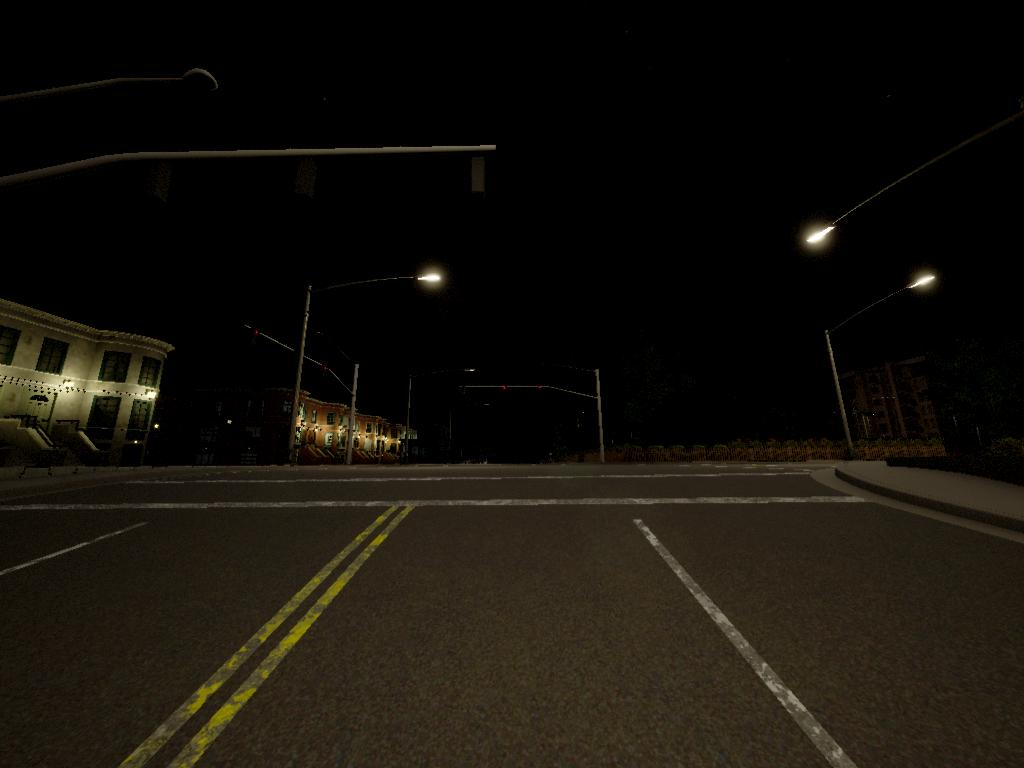traffic_light: (251, 329, 262, 349), (323, 365, 330, 383), (537, 386, 544, 398), (501, 385, 510, 394), (460, 387, 468, 397)
